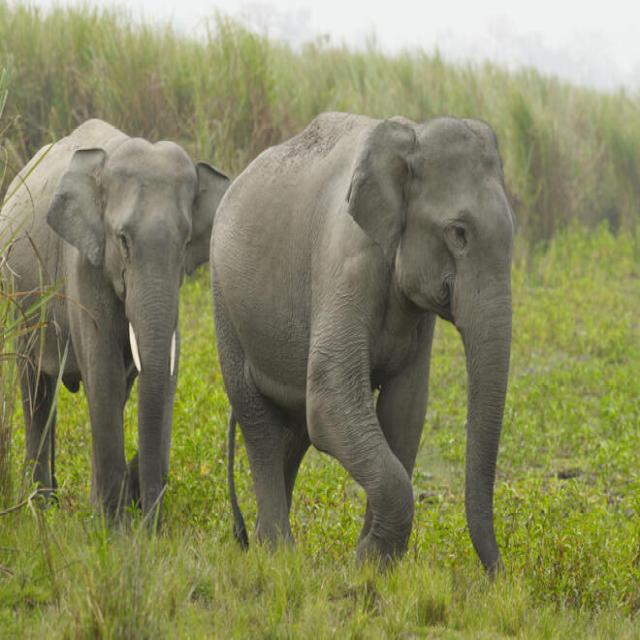Elephant: (207, 104, 527, 602), (2, 115, 200, 532)
